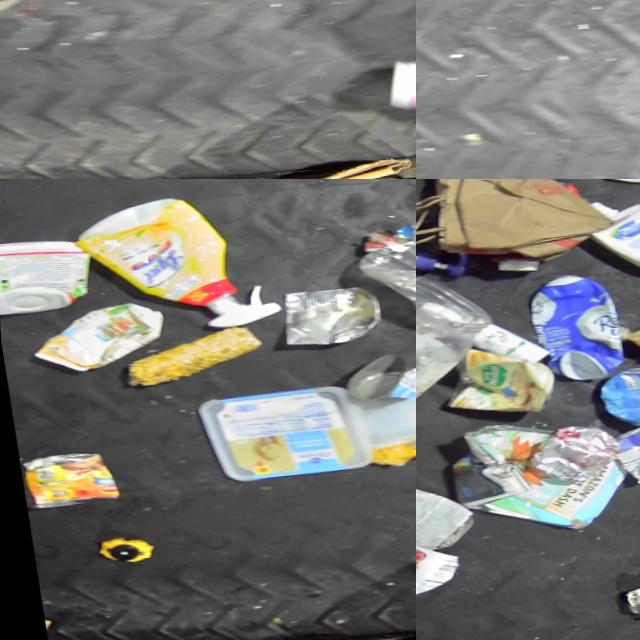can: (273, 280, 381, 347), (13, 446, 118, 510), (523, 419, 617, 483), (334, 347, 416, 403), (591, 360, 640, 427), (608, 421, 640, 484)
milk_jug: (353, 359, 416, 468)
non_white_jug: (523, 267, 626, 384)
plastic_bottle: (343, 179, 416, 324), (617, 576, 640, 619)
